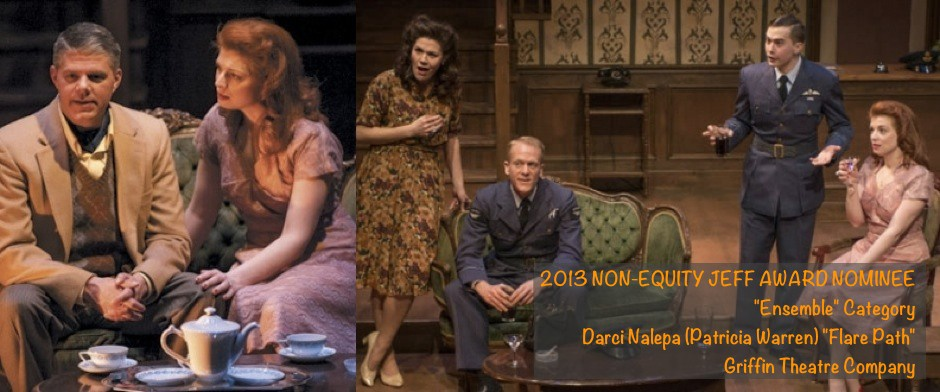bad: (52, 59, 114, 122), (199, 55, 250, 107), (505, 154, 541, 190), (757, 30, 793, 66), (857, 118, 893, 154), (405, 42, 441, 78)
